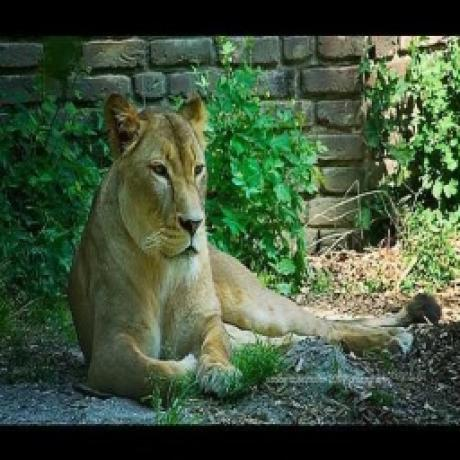Lion: (67, 87, 413, 405)
